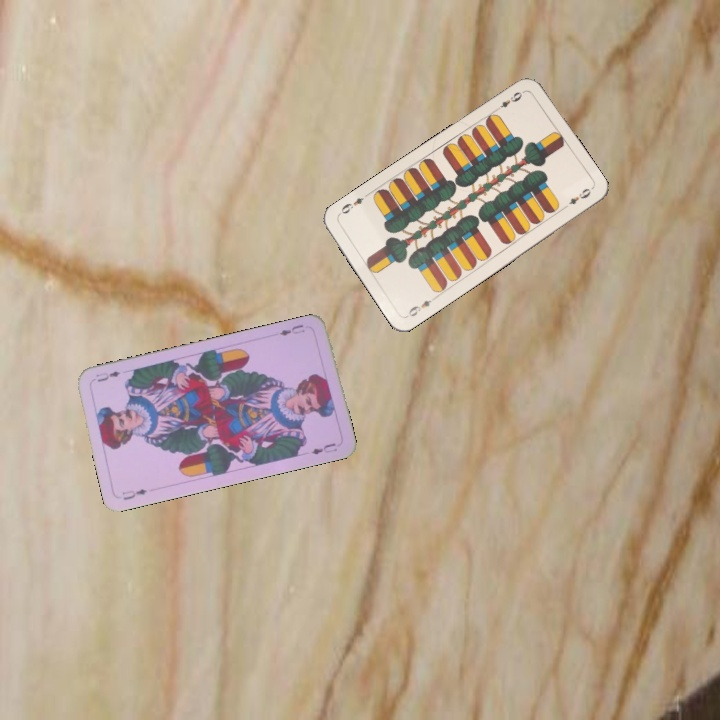E9: (403, 292, 439, 320), (491, 86, 527, 114)
EU: (276, 320, 307, 339), (118, 485, 150, 503)
